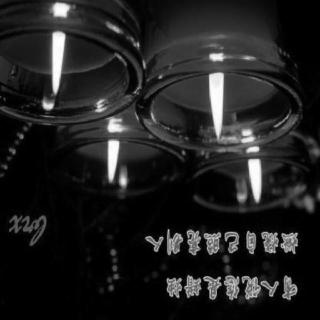Fire: (244, 145, 266, 207)
